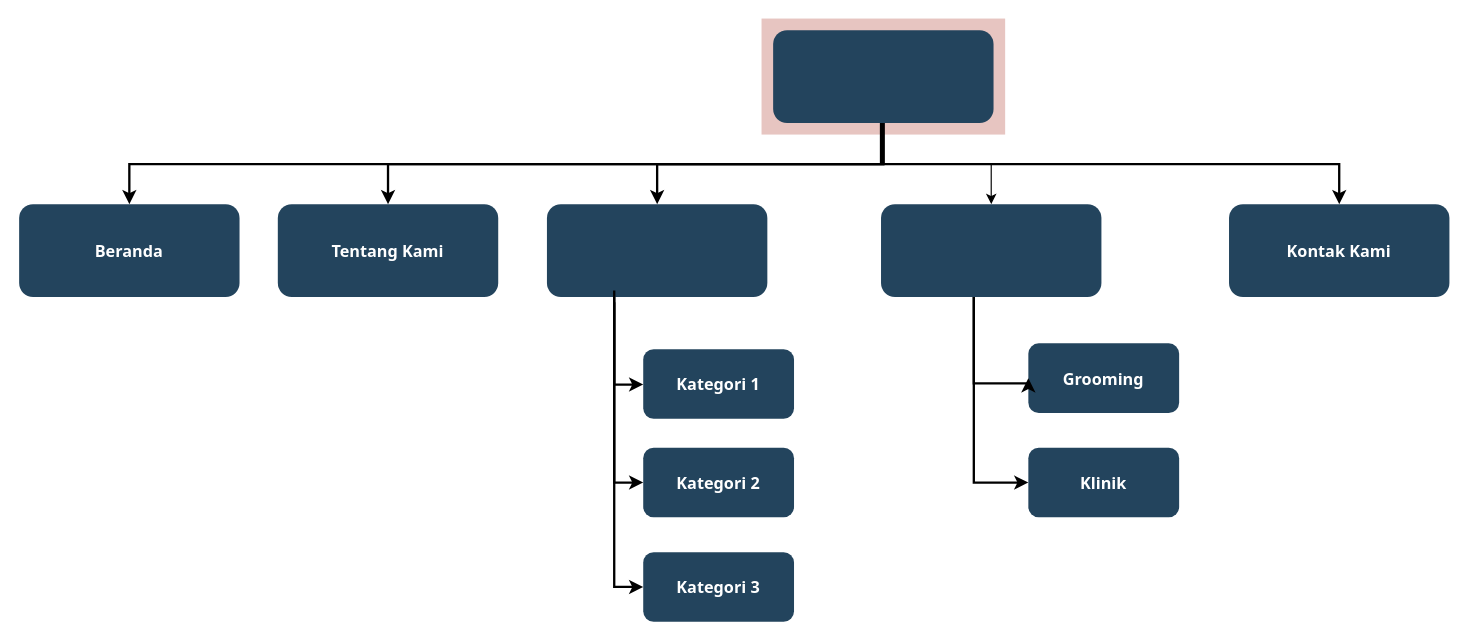
Some shapes in this 1469 by 640 pixel diagram are drawn without their labels. The shapes that lost their labels are listed below. From the top down, each one's box as (x1, y1, x2, y2) in pixels, then its label:
(773, 30, 993, 122): Palace Pet Shop
(546, 204, 767, 296): Produk
(880, 204, 1101, 296): Layanan
